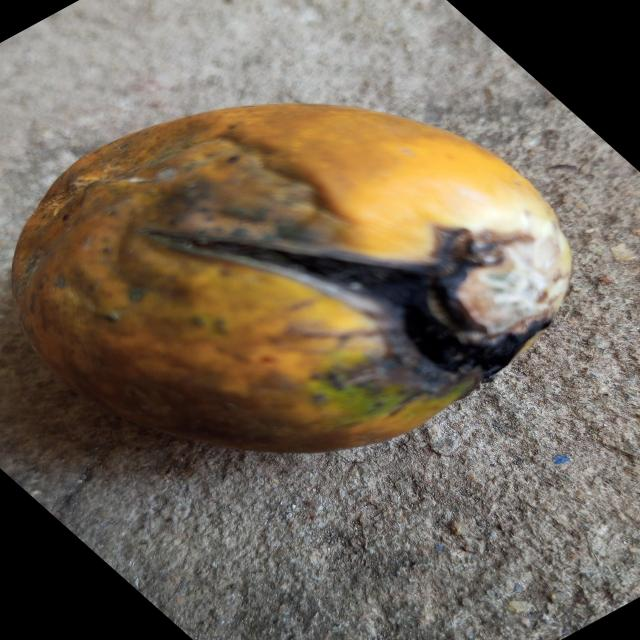damaged: (12, 104, 571, 452)
